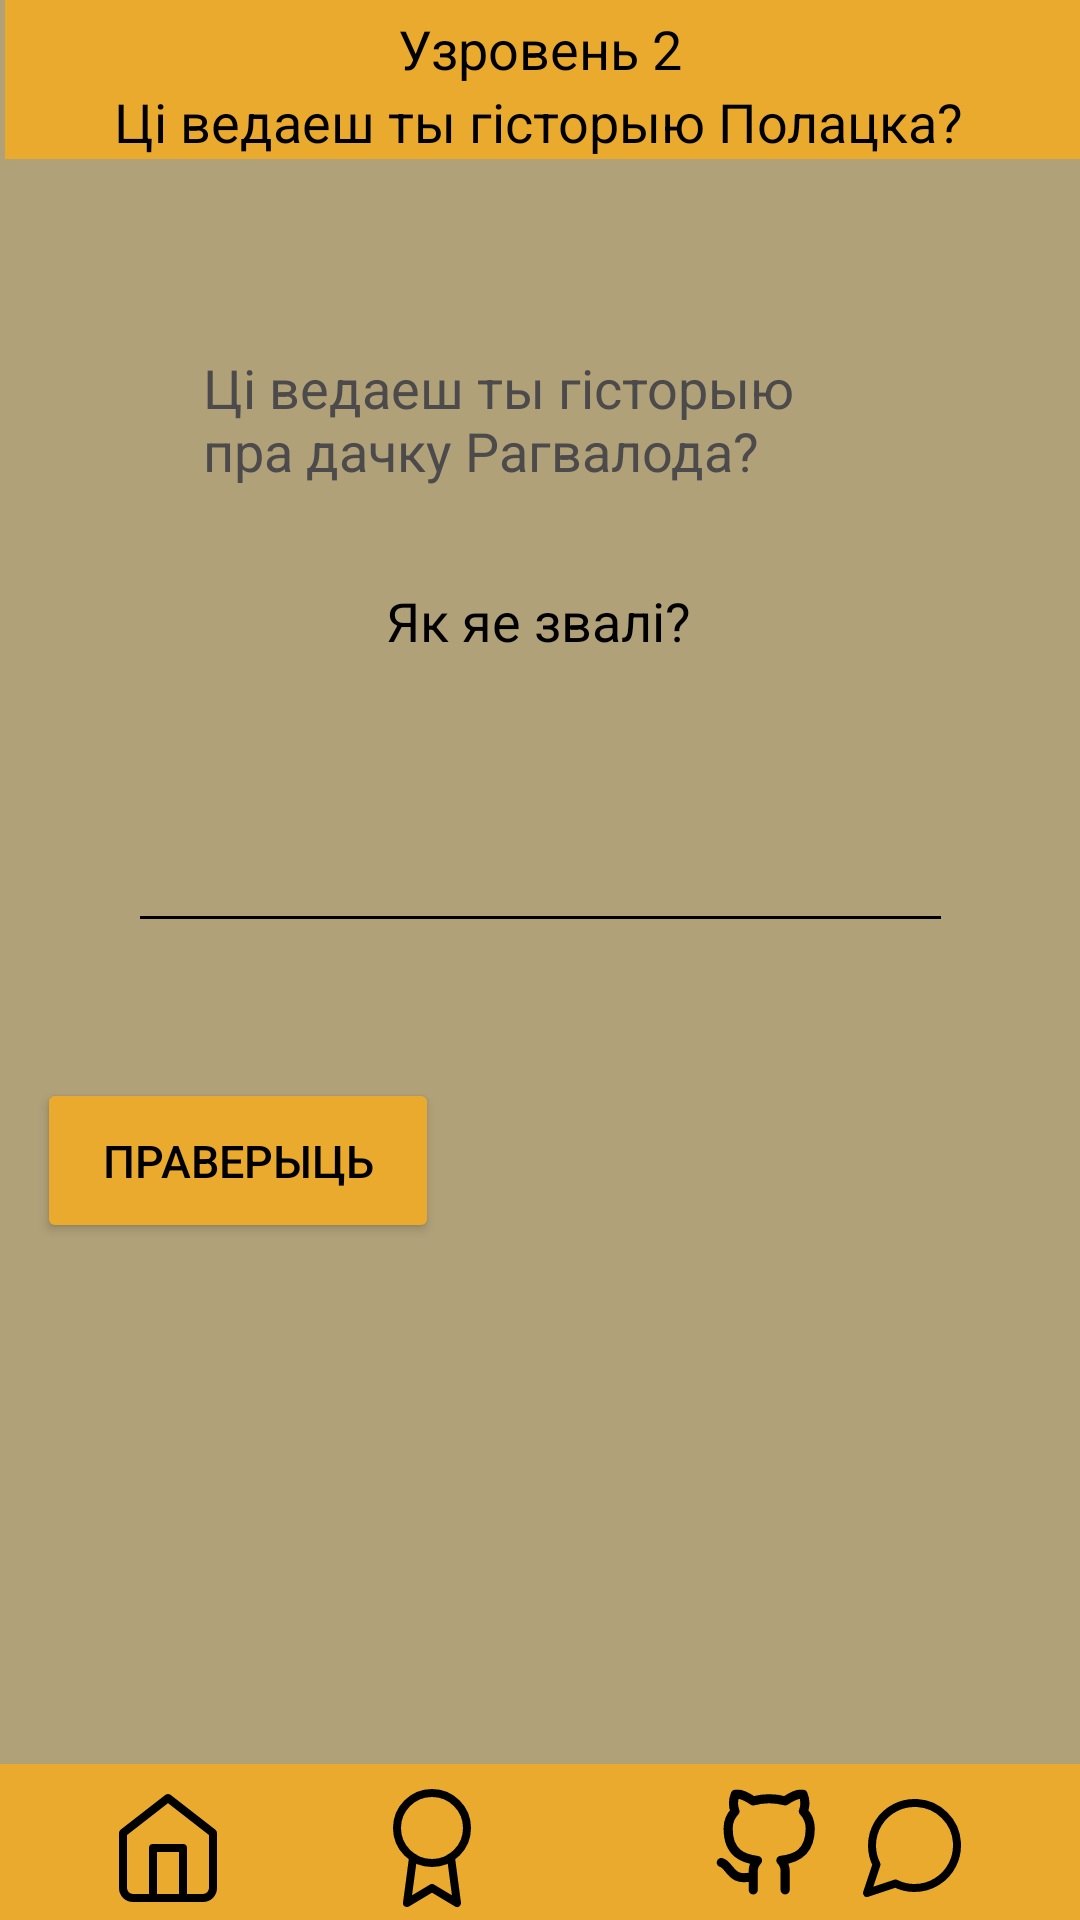

Named icons in this screenshot (1080*1920) and their bounding boxes, Rect(x1, y1, x2, y2):
award: Rect(393, 1789, 471, 1908)
home: Rect(119, 1794, 217, 1902)
message circle: Rect(863, 1799, 961, 1897)
